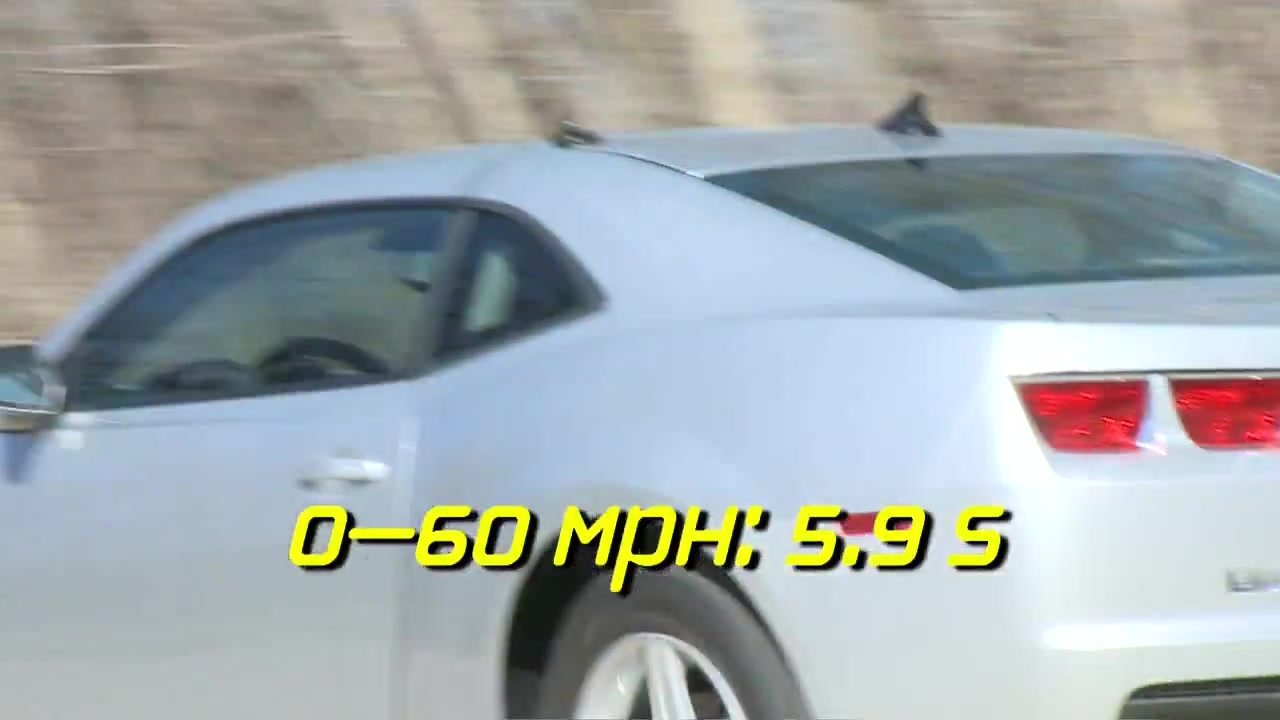car: (3, 115, 1280, 720)
